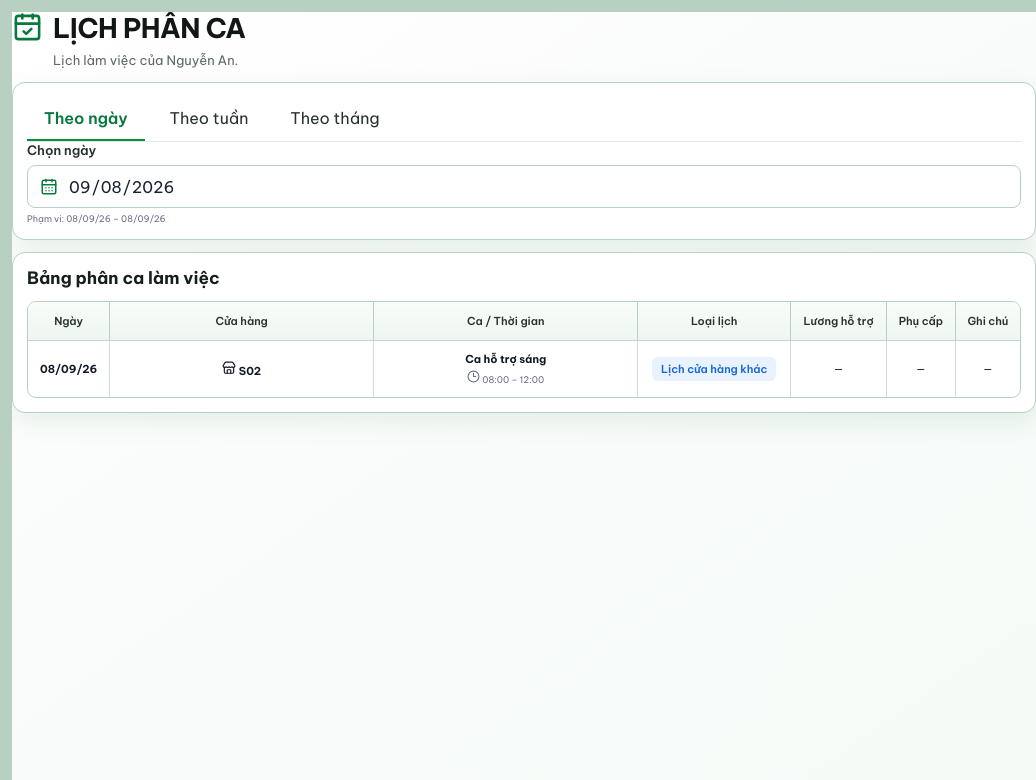
Test: EmployeeSchedulePage › opens the requested support date and still allows another date to be selected
The width and height of the screenshot is (1036, 780).
Expected: the text "Ca hỗ trợ sáng" is shown, [465,352,546,366]
Type "2026-09-09" into the date field labelled "Chọn ngày" at [538, 186], box [67,166,1008,207]
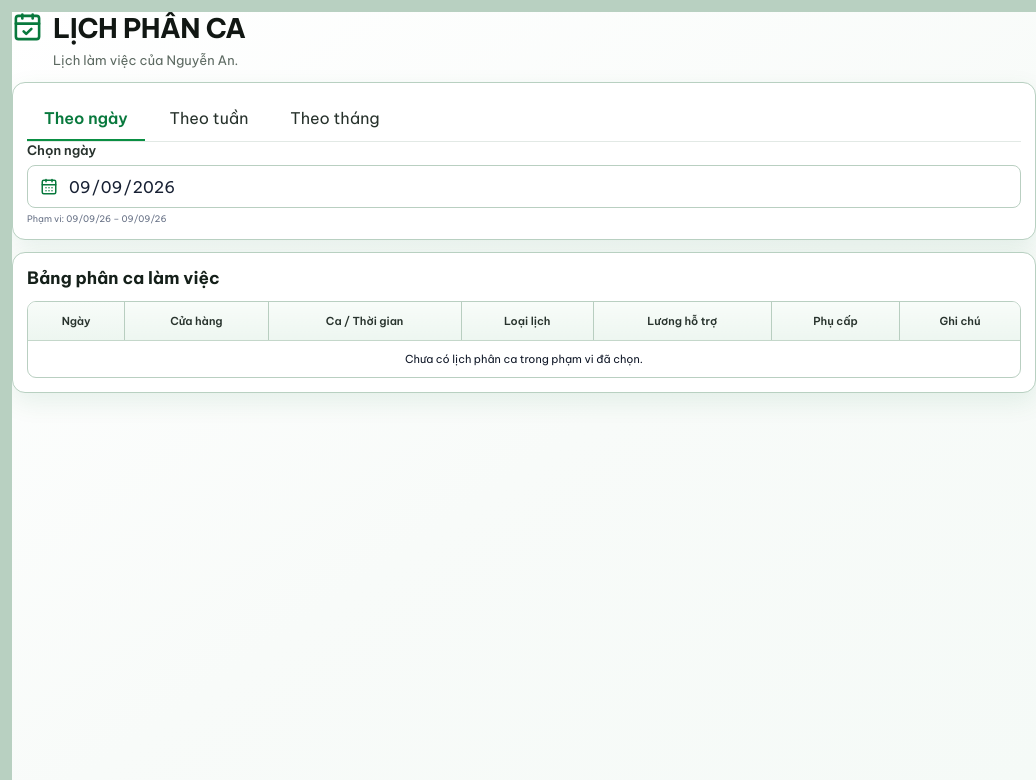
Expected: the text "Ca hỗ trợ sáng" is gone
